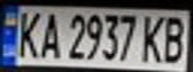2: (63, 9, 87, 61)
3: (103, 11, 124, 62)
7: (118, 11, 142, 63)
9: (81, 10, 106, 61)
A: (36, 9, 63, 60)
B: (157, 11, 193, 64)
K: (136, 11, 169, 64), (12, 8, 42, 60)
